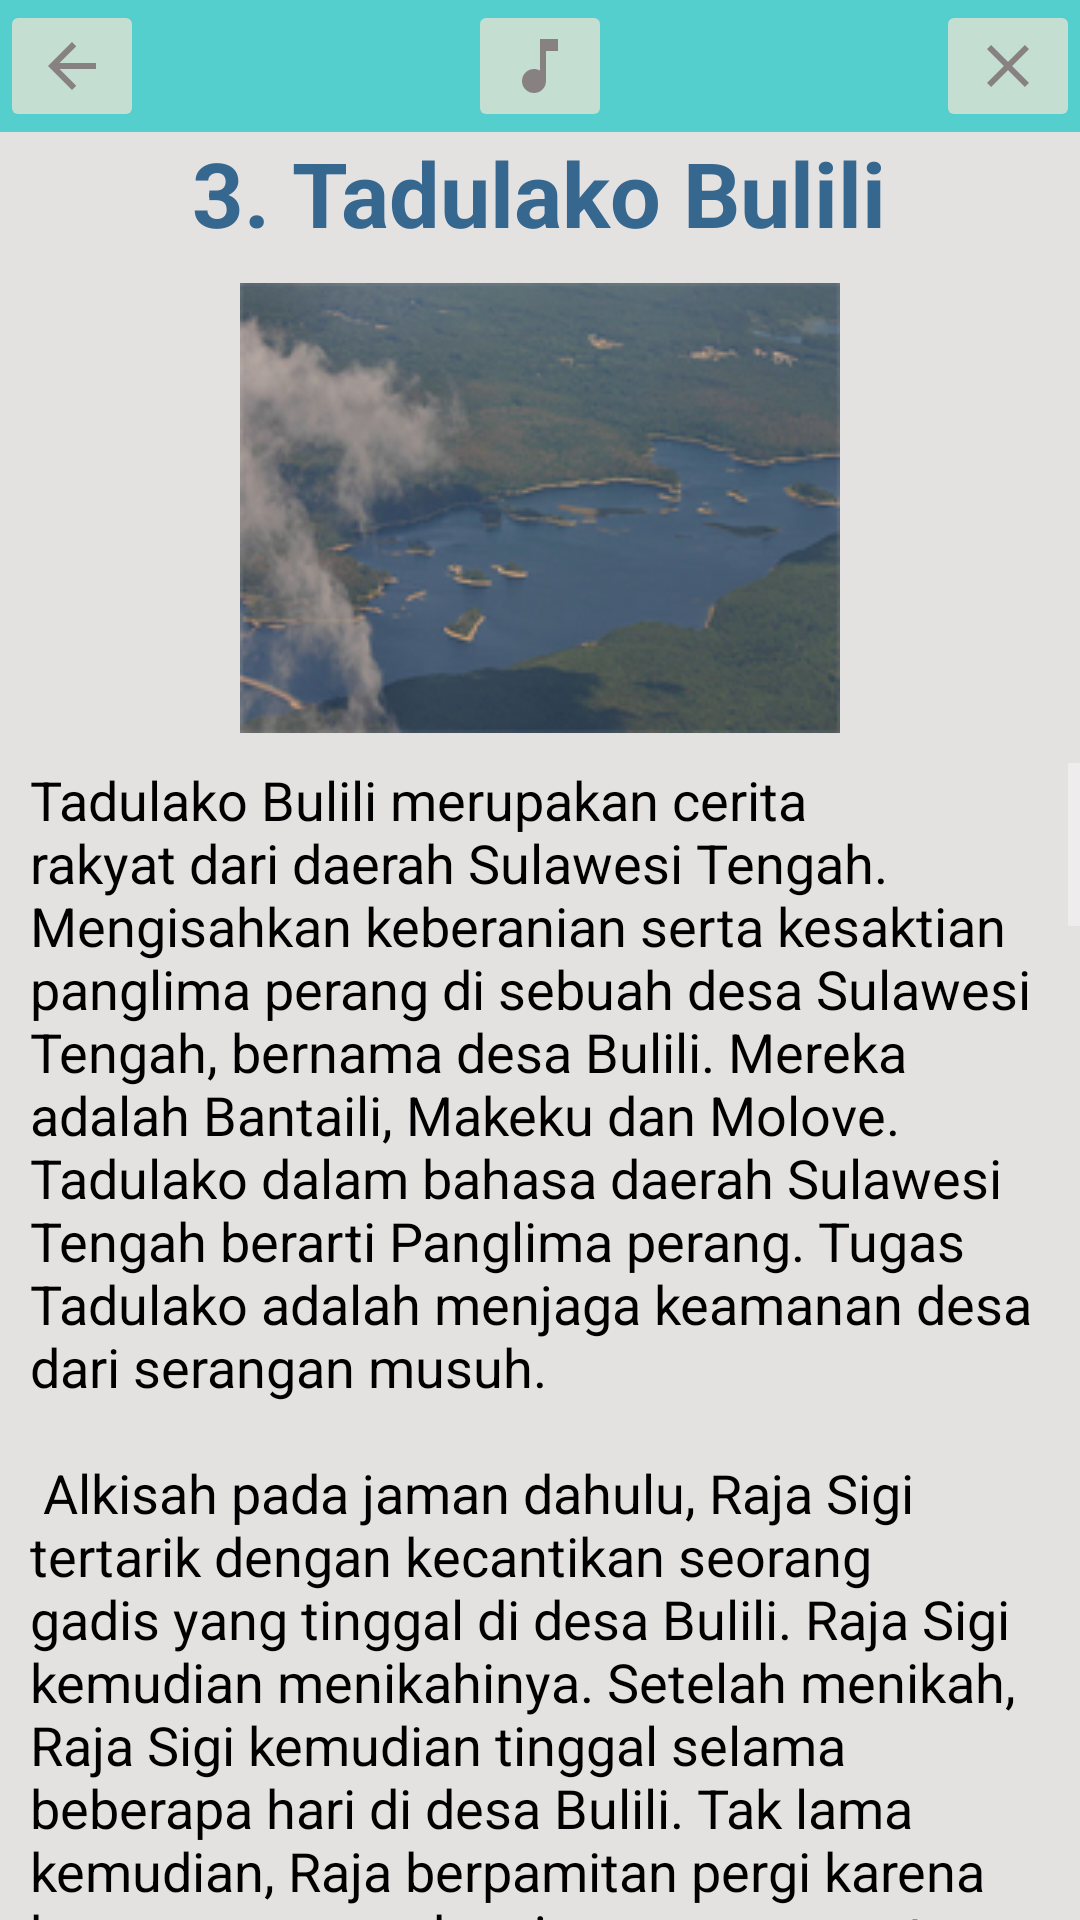

Screen size 1080*1920. Icon name, then its center in pixels as (x,y):
arrow back: (72,66)
close: (1008,66)
music note: (540,66)
